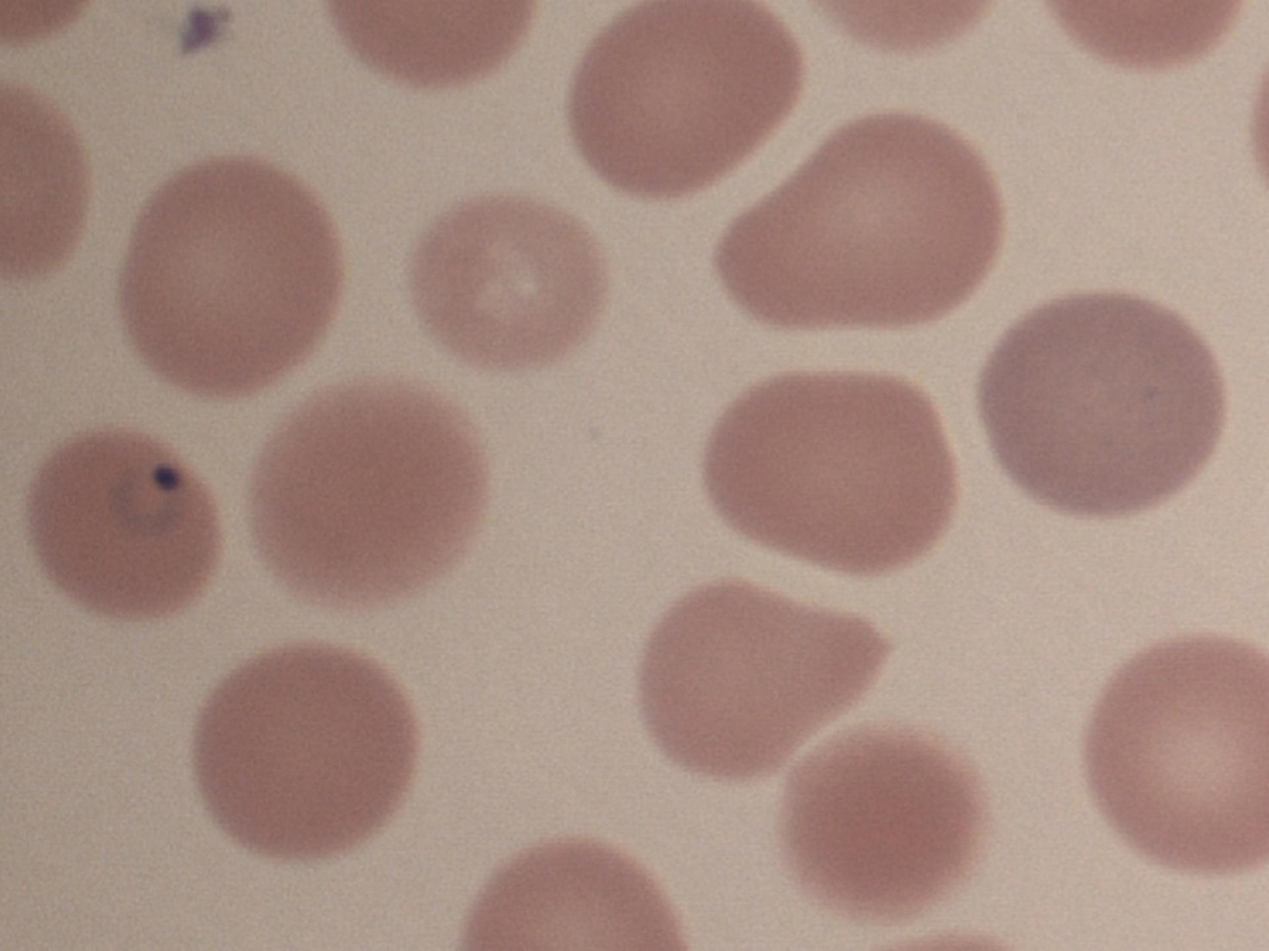Infected: (30, 428, 224, 623)
Uninfected: (715, 108, 997, 329), (983, 291, 1225, 516), (245, 380, 491, 598), (124, 154, 339, 397), (706, 367, 954, 570), (636, 580, 884, 782), (197, 641, 417, 861), (567, 0, 806, 198), (1081, 630, 1269, 874), (408, 189, 603, 366), (782, 732, 976, 909), (458, 835, 685, 951)
